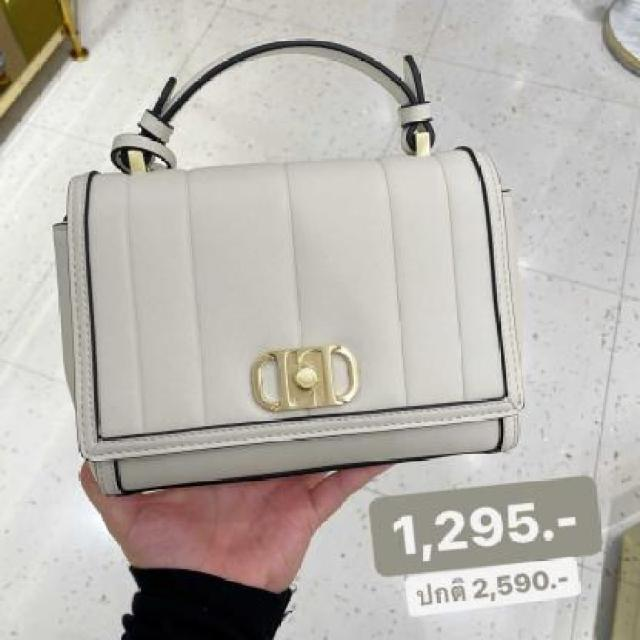Bag: (24, 28, 556, 514)
